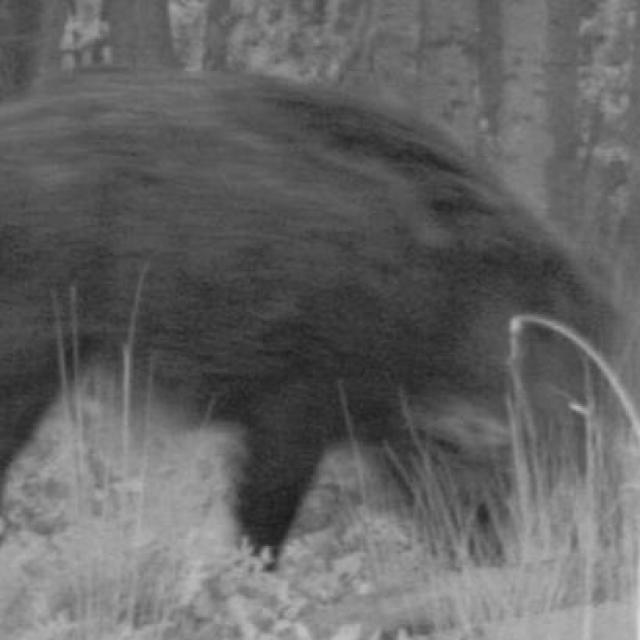pig: (62, 67, 570, 566)
